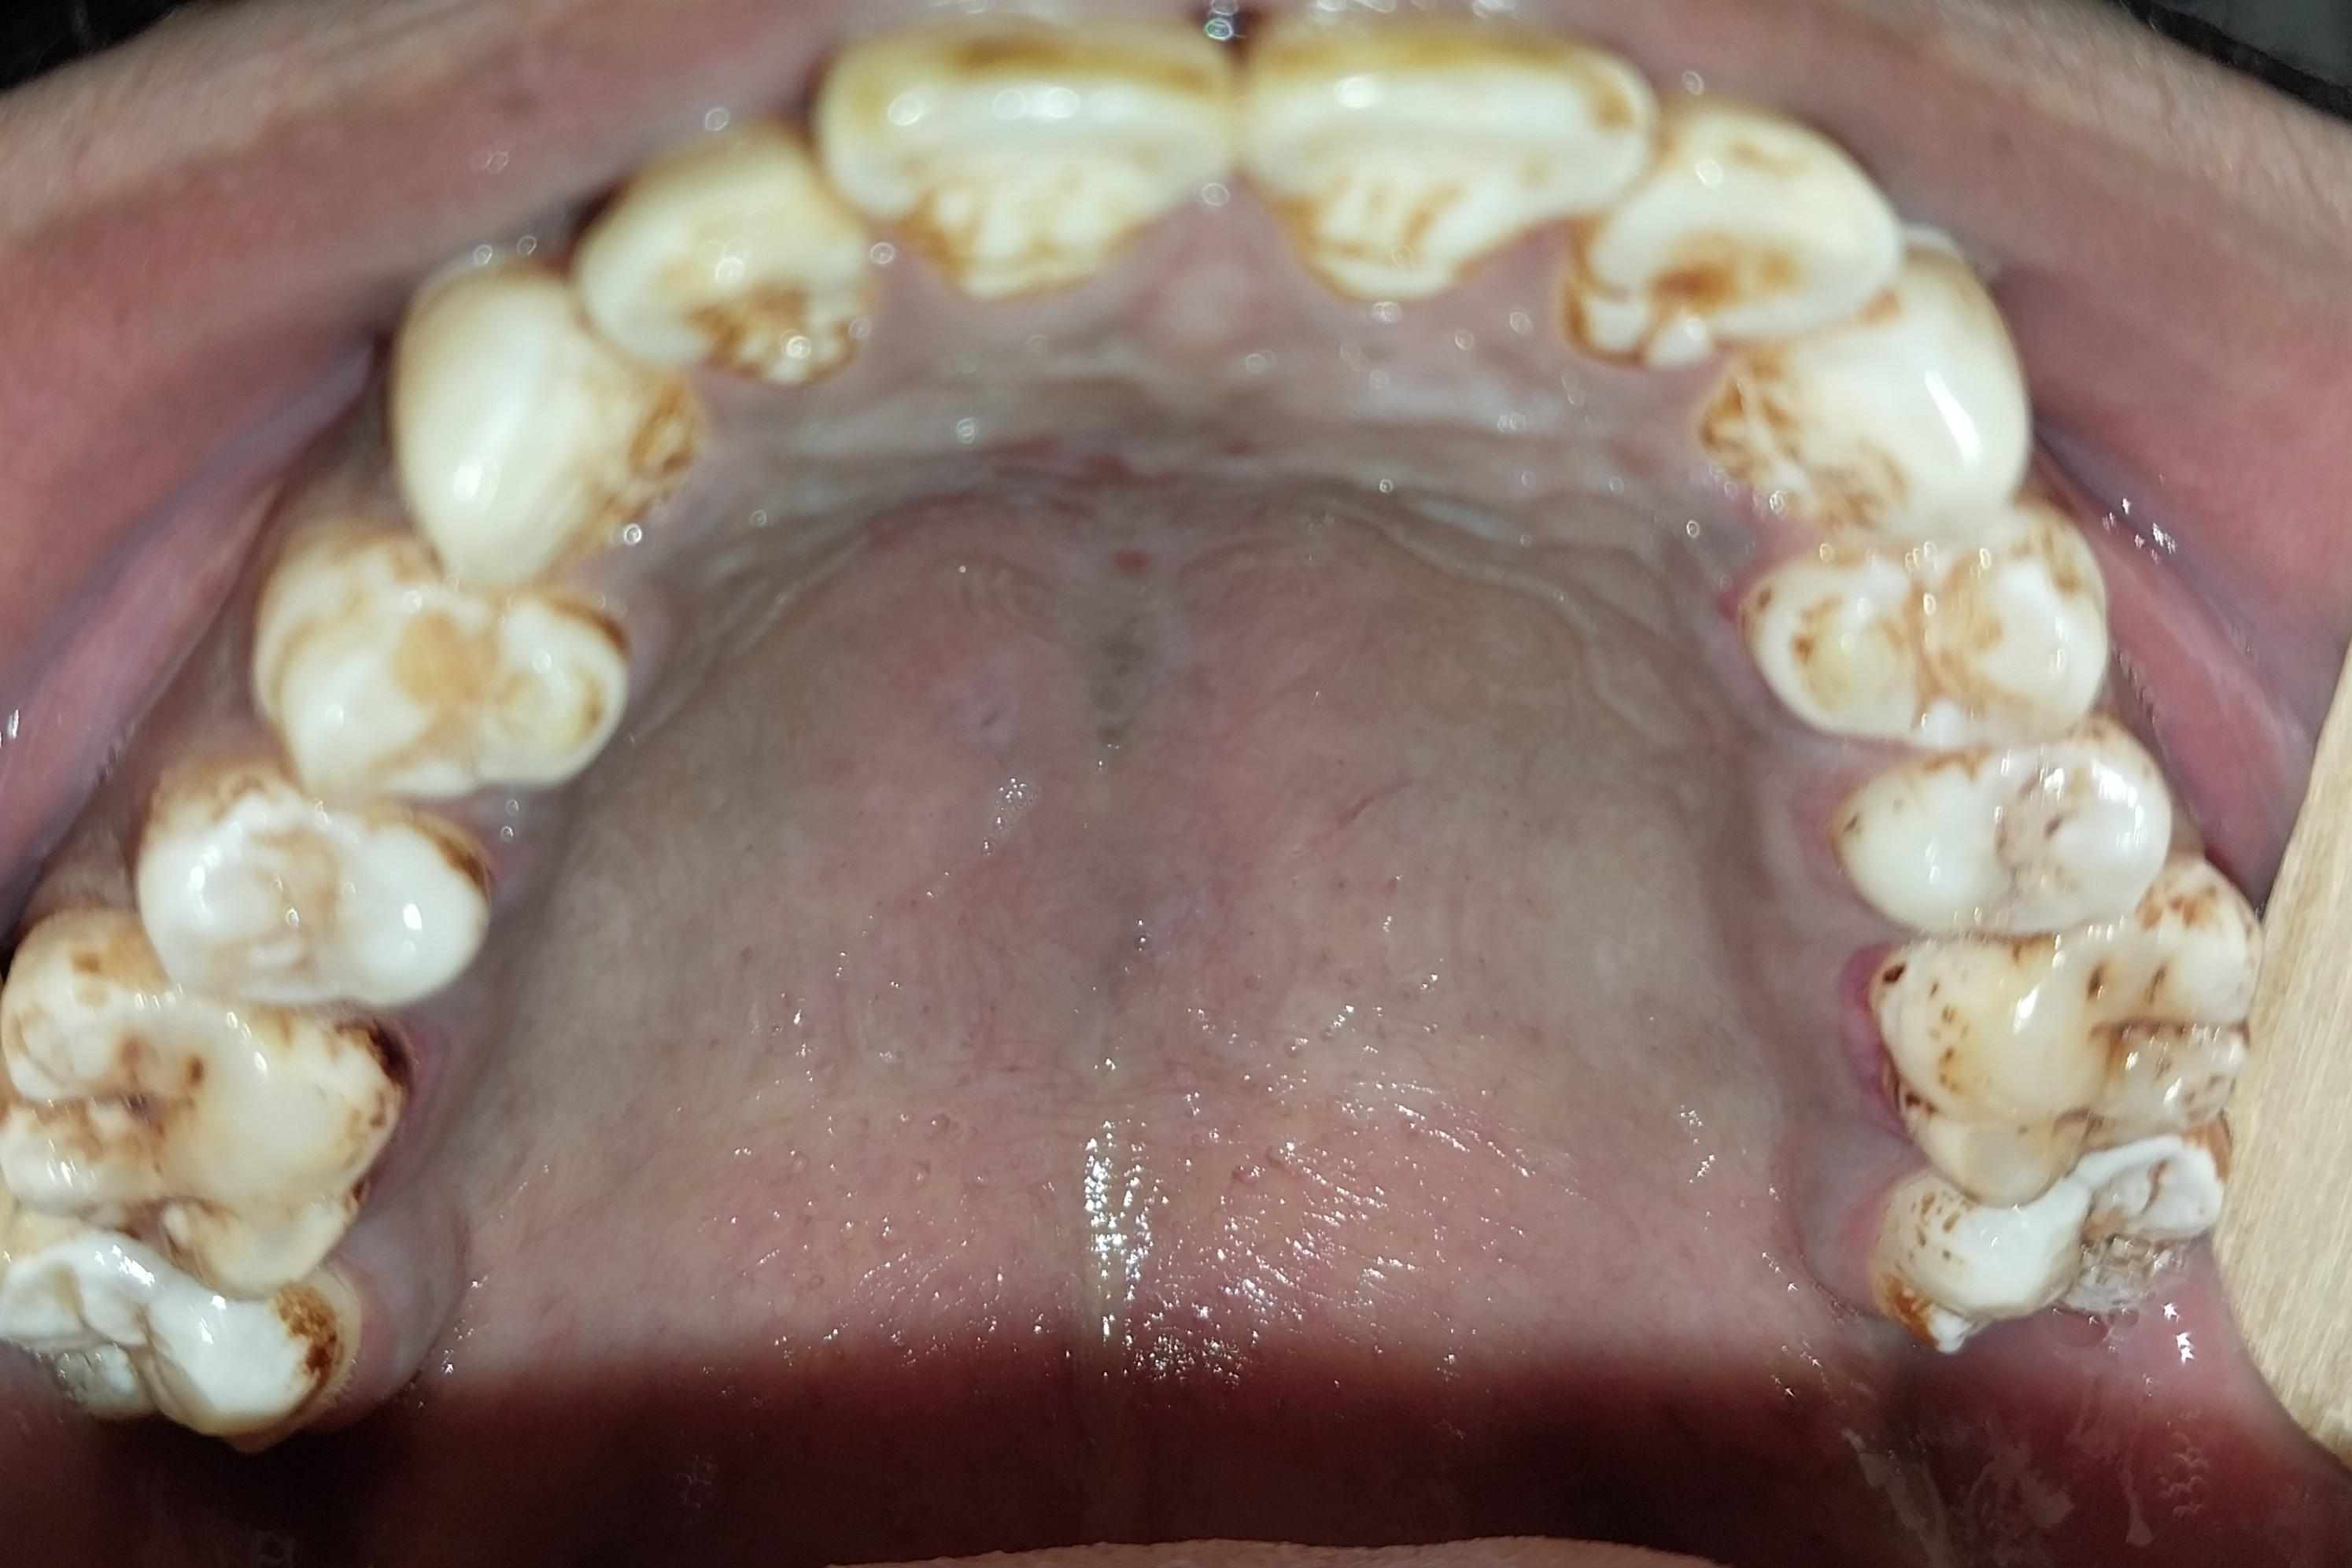D: (3, 928, 402, 1304), (1881, 903, 2247, 1201), (1832, 746, 2185, 935), (1878, 1145, 2236, 1329)
